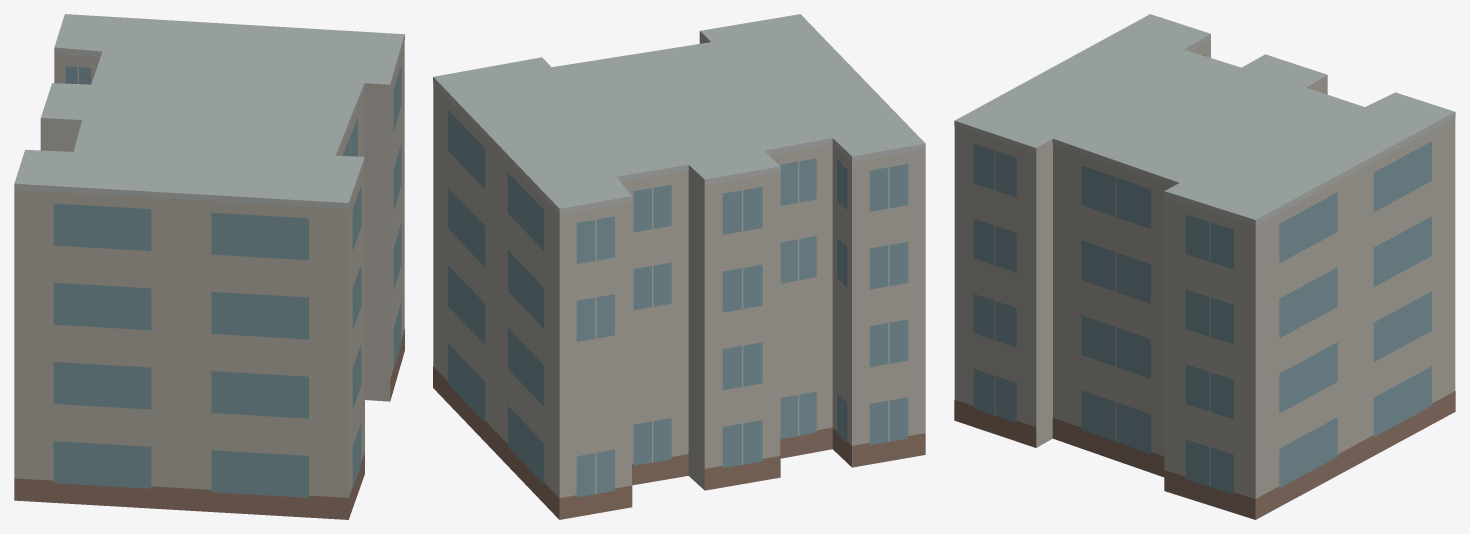
The model's file is survey-upis-32693110.glb.
The picture shows the model from 3 angles, left to right: view 1: azimuth 30°, elevation 25°; view 2: azimuth 150°, elevation 25°; view 3: azimuth 270°, elevation 25°; orthographic projection. The views are drawn at different scales.
Visible parts, largest first — view 1: survey-upis-32693110.tmp; view 2: survey-upis-32693110.tmp; view 3: survey-upis-32693110.tmp.
Boxes of the visible parts, box(x1,y1,x2,y2) form: survey-upis-32693110.tmp: box(14, 14, 404, 519); survey-upis-32693110.tmp: box(433, 14, 925, 519); survey-upis-32693110.tmp: box(954, 14, 1455, 519).
Size of the model in its own units: 18.86 by 12.8 by 19.39.
